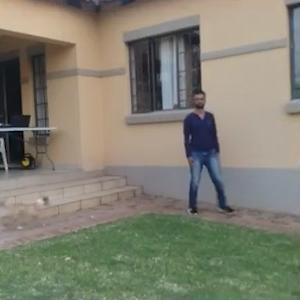follow: (172, 84, 213, 221)
